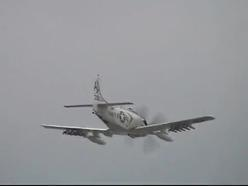aircraft: (41, 73, 216, 146)
